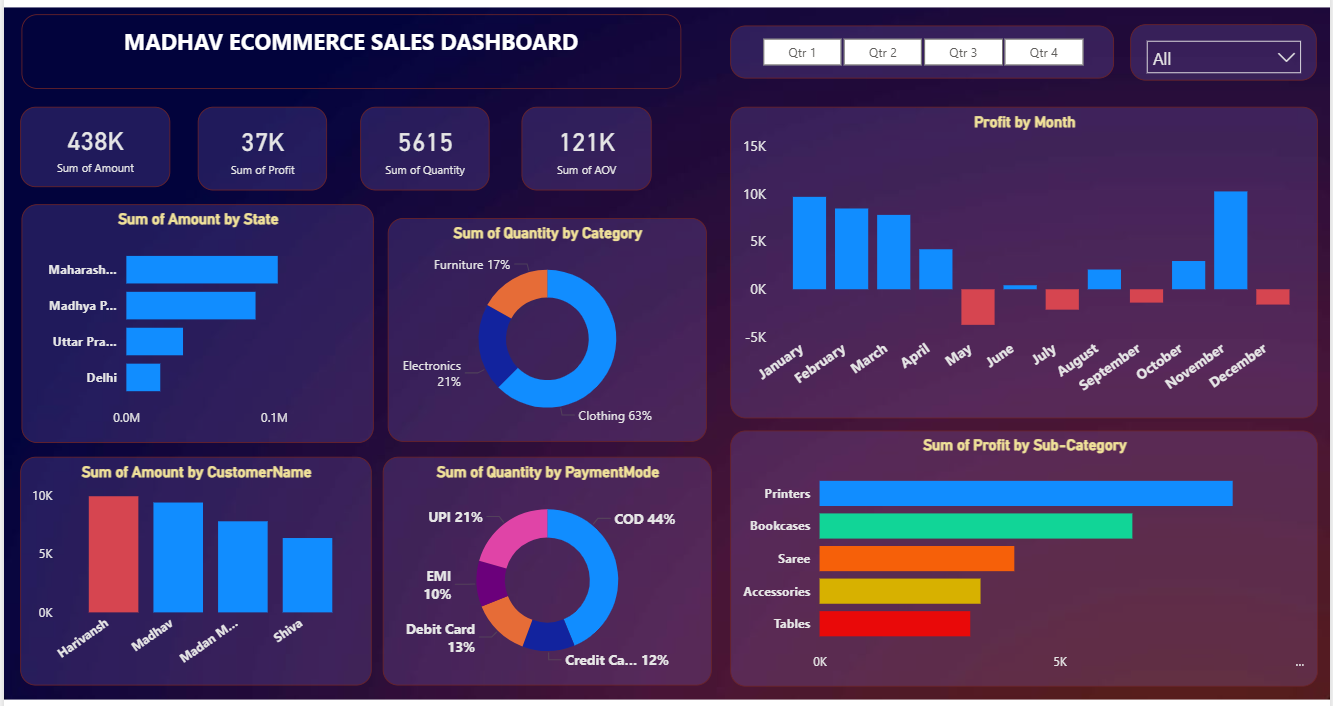

This screenshot's page, from the dashboard's own definition file:
{"tool":"powerbi","page":{"name":"Page 1","canvas":[1280,720],"ordinal":0},"visuals":[{"type":"textbox","box":[16.6,30.5,636.7,72.1],"z":0},{"type":"clusteredColumnChart","title":"Profit by Month","fields":{"Category":["Orders.Order Date.Variation.Date Hierarchy.Month"],"Y":["Sum(Details.Profit)"]},"box":[700.5,119.3,567.3,301],"z":1},{"type":"barChart","fields":{"Category":["Details.Sub-Category"],"Y":["Sum(Details.Profit)"]},"box":[700.5,431.4,567.3,246.9],"z":2},{"type":"donutChart","fields":{"Category":["Details.Category"],"Y":["Sum(Details.Quantity)"]},"box":[370.4,226.8,307.6,216],"z":3},{"type":"donutChart","fields":{"Y":["Sum(Details.Quantity)"],"Series":["Details.PaymentMode"]},"box":[365.6,457.2,317.3,220.8],"z":4},{"type":"card","fields":{"Values":["Sum(Details.Amount)"]},"box":[15.7,119.4,144.8,77.2],"z":5},{"type":"card","fields":{"Values":["Sum(Details.Quantity)"]},"box":[344,119.3,124.8,80.5],"z":6},{"type":"card","fields":{"Values":["Sum(Details.Profit)"]},"box":[187.3,119.3,124.8,80.5],"z":7},{"type":"card","fields":{"Values":["Sum(Details.AOV)"]},"box":[499.5,119.4,125.5,80.8],"z":8},{"type":"barChart","fields":{"Y":["Sum(Details.Amount)"],"Category":["Orders.State"]},"box":[16.6,213.6,339.8,230.3],"z":9},{"type":"columnChart","fields":{"Category":["Orders.CustomerName"],"Y":["Sum(Details.Amount)"]},"box":[16,457,339,221],"z":10},{"type":"slicer","fields":{"Values":["Orders.Order Date.Variation.Date Hierarchy.Quarter"]},"box":[700.5,41.6,370.4,51.3],"z":11},{"type":"slicer","fields":{"Values":["Orders.State"]},"box":[1087.5,40.2,180.3,54.1],"z":12}]}

Visuals, with their boxes on the page's 1280x720 design canvas (x1, y1, x2, y2). These are canvas units, not pixel positions in the 1333x706 screenshot, which may show the page scaled, cropped or inside an application window:
textbox: <box>17,30,653,103</box>
"Profit by Month" clusteredColumnChart: <box>700,119,1268,420</box>
barChart - Details.Sub-Category x Sum(Details.Profit): <box>700,431,1268,678</box>
donutChart - Details.Category x Sum(Details.Quantity): <box>370,227,678,443</box>
donutChart - Sum(Details.Quantity) x Details.PaymentMode: <box>366,457,683,678</box>
card - Sum(Details.Amount): <box>16,119,160,197</box>
card - Sum(Details.Quantity): <box>344,119,469,200</box>
card - Sum(Details.Profit): <box>187,119,312,200</box>
card - Sum(Details.AOV): <box>500,119,625,200</box>
barChart - Sum(Details.Amount) x Orders.State: <box>17,214,356,444</box>
columnChart - Orders.CustomerName x Sum(Details.Amount): <box>16,457,355,678</box>
slicer - Orders.Order Date.Variation.Date Hierarchy.Quarter: <box>700,42,1071,93</box>
slicer - Orders.State: <box>1088,40,1268,94</box>
